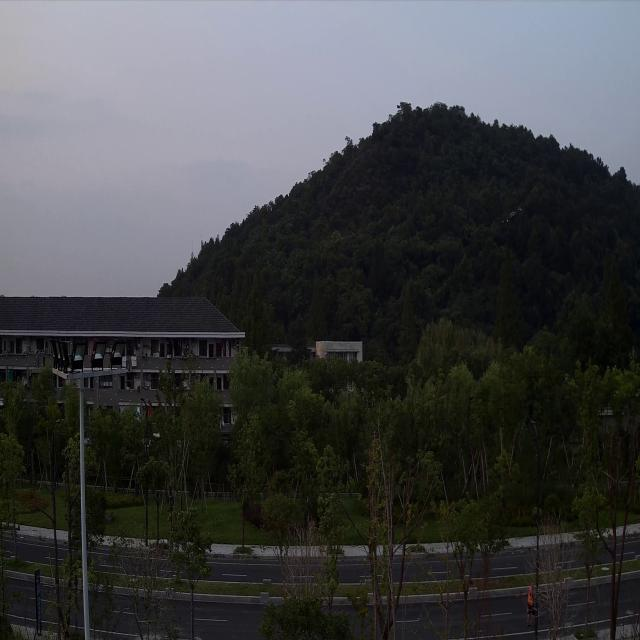UAV: (501, 205, 524, 224)
